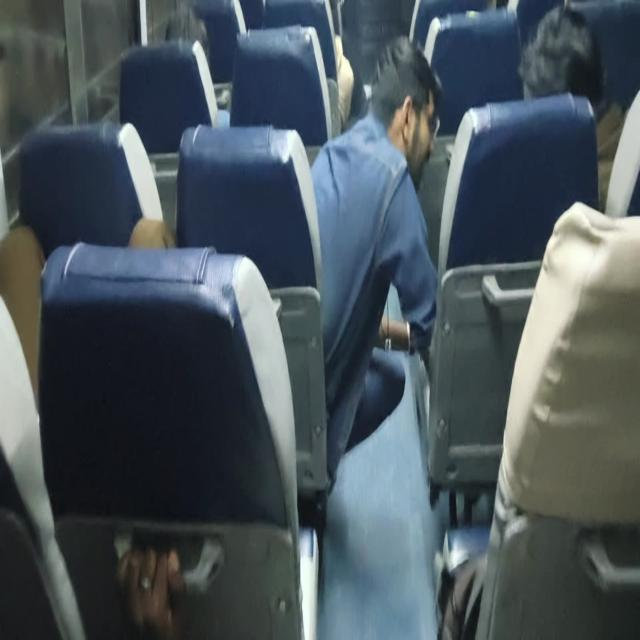person: (308, 34, 442, 482), (518, 4, 625, 211), (519, 5, 605, 106), (114, 540, 187, 638)
